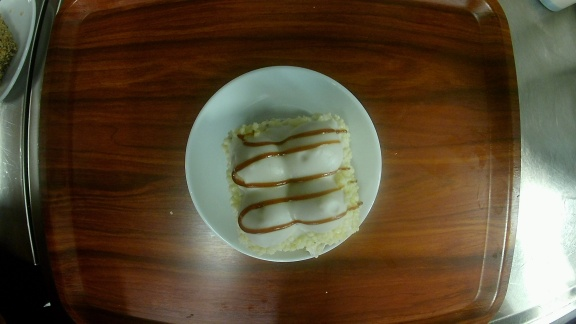beyazpasta: (185, 65, 383, 262)
